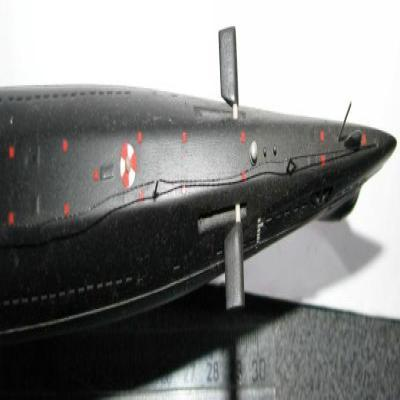other: (0, 0, 394, 14)
